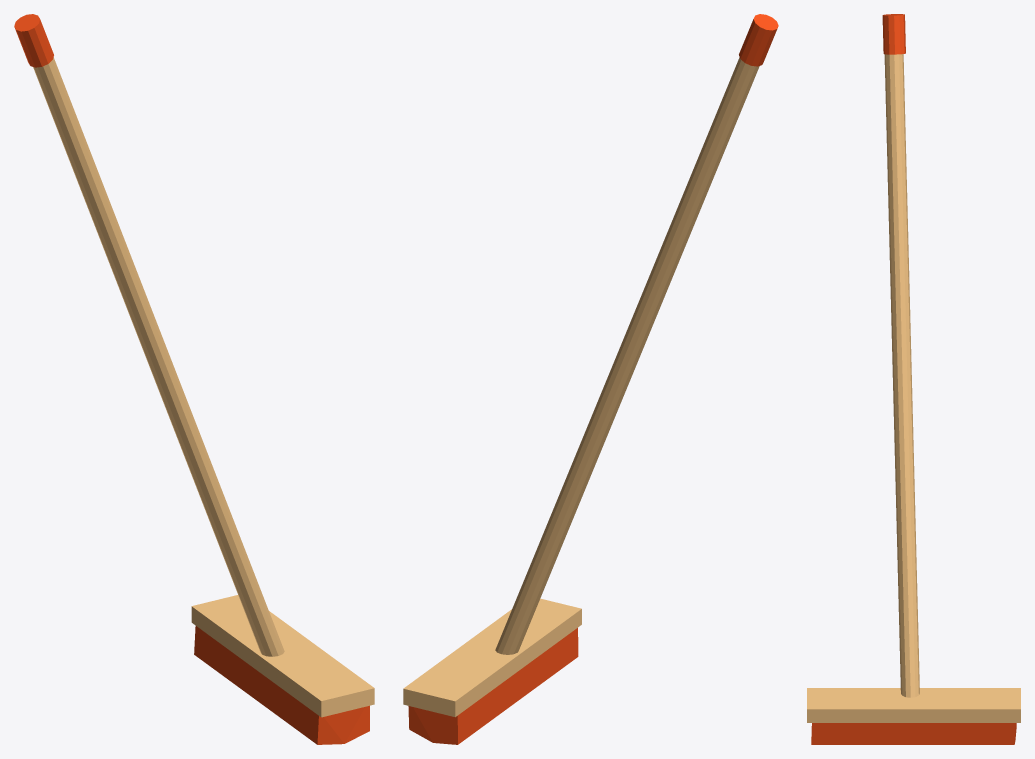
Rendered from vasoura.glb.
3 views of the same model, side by side, from view 1: azimuth 30°, elevation 25°; view 2: azimuth 150°, elevation 25°; view 3: azimuth 270°, elevation 25° (orthographic). The views are drawn at different scales.
Parts seen in each view (by area): view 1: Node; view 2: Node; view 3: Node.
Boxes of the visible parts, x1,y1,x2,y2 form: Node: (14,14,374,744); Node: (403,14,778,744); Node: (807,14,1020,744).
Bounding box in the file's own units: 1.37 × 3.24 × 1.01.
